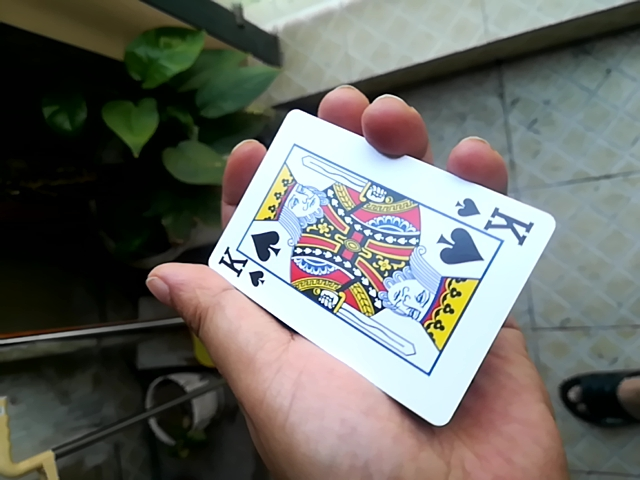ht k: (181, 96, 554, 435)
